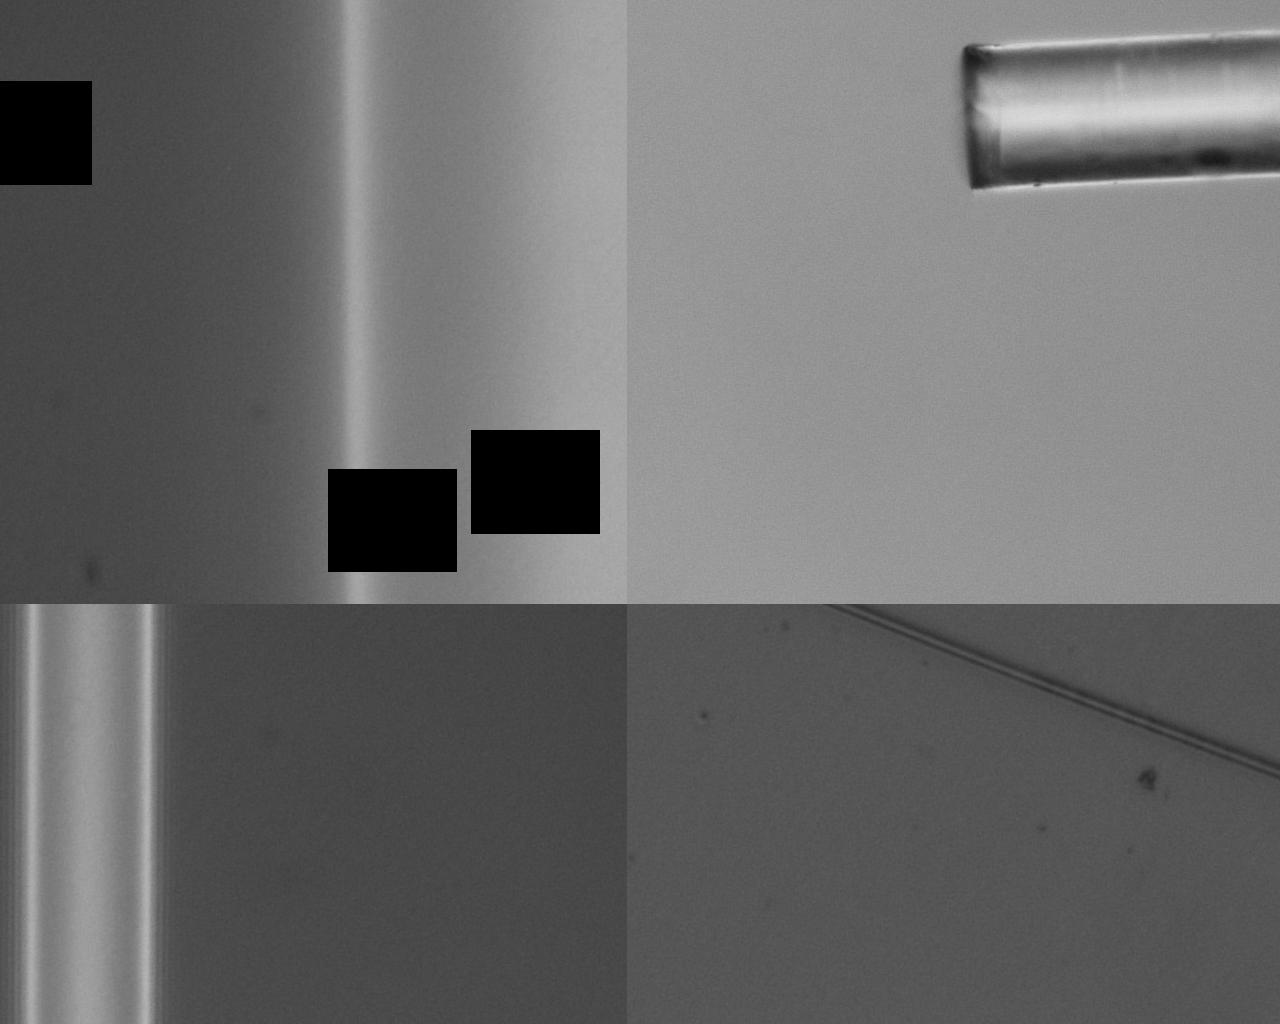fiber: (711, 492, 1280, 721)
